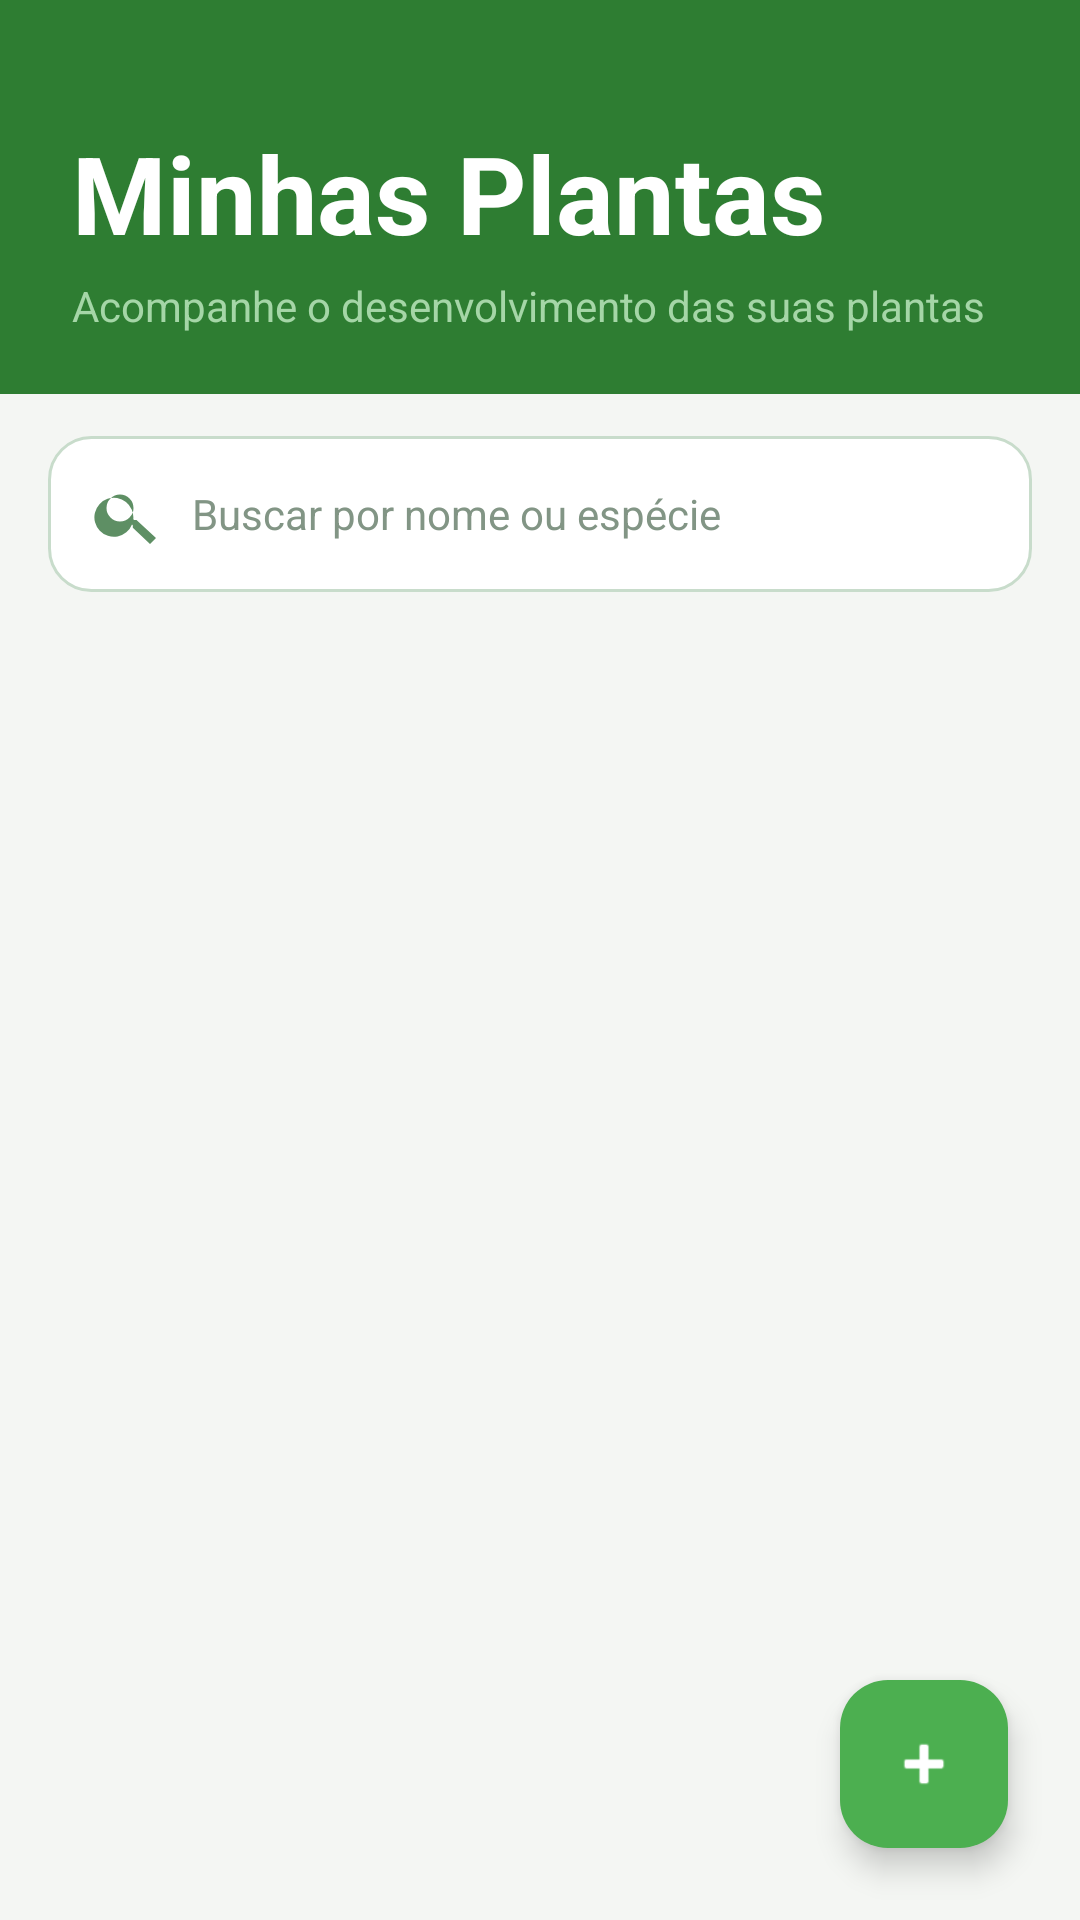

Where to tap for icons on this 1080*1920 app screen, as (x=x, y=y):
Adicionar: (x=924, y=1764)
